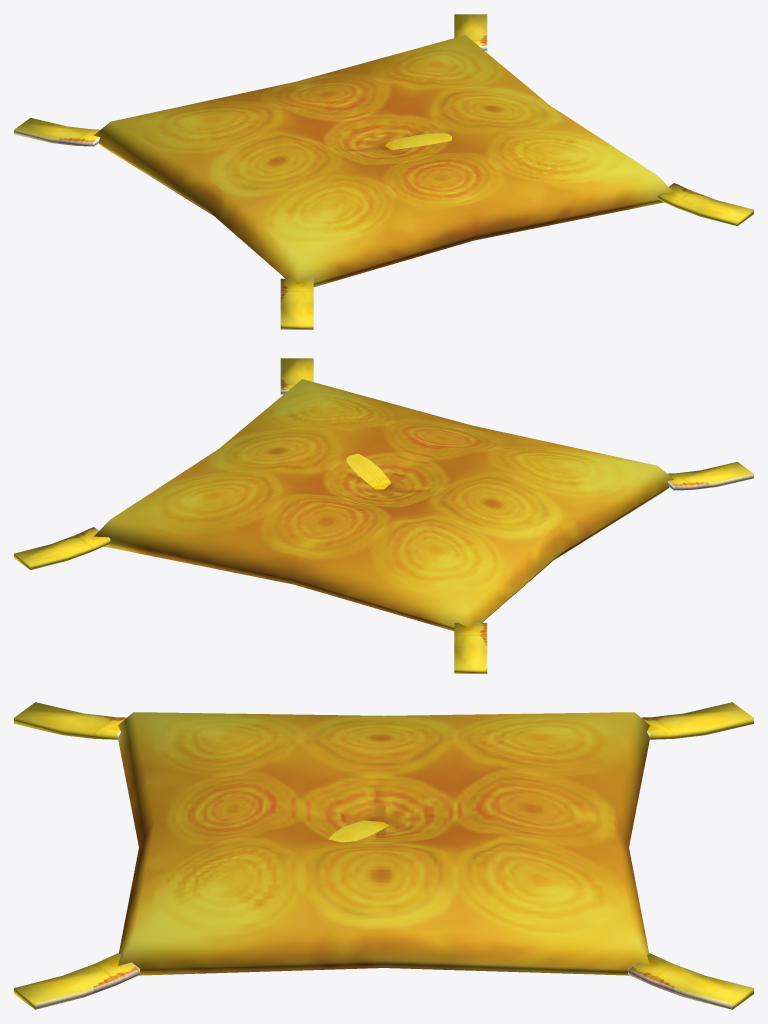
Rendered from JapaneseYellowCushon_HD.fbx.
3 renders of one model, top to bottom at view 1: azimuth 30°, elevation 25°; view 2: azimuth 150°, elevation 25°; view 3: azimuth 270°, elevation 25°, orthographic. The views are drawn at different scales.
Parts seen in each view (by area): view 1: JapaneseYellowCushon; view 2: JapaneseYellowCushon; view 3: JapaneseYellowCushon.
Boxes of the visible parts, x1=… form: JapaneseYellowCushon: x1=14, y1=14, x2=753, y2=329; JapaneseYellowCushon: x1=14, y1=358, x2=753, y2=673; JapaneseYellowCushon: x1=14, y1=702, x2=753, y2=1009.
Bounding box in the file's own units: 0.8638 × 0.0793 × 0.8955.
